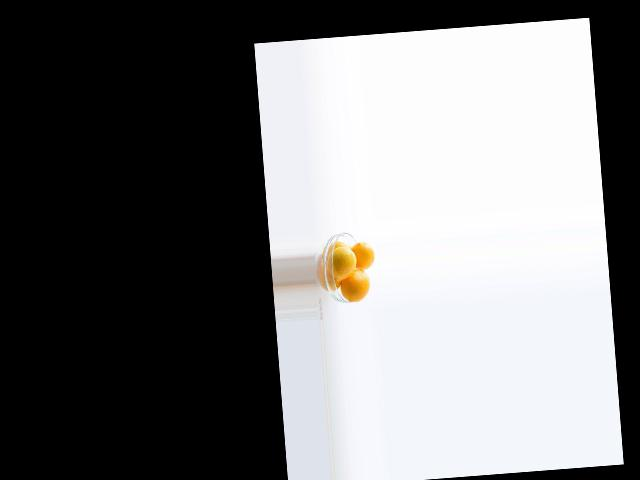lemon: (343, 266, 371, 304)
